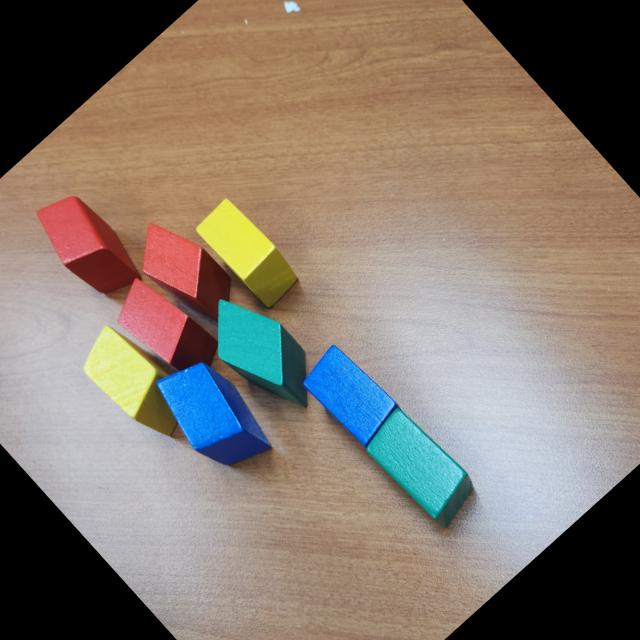blue: (142, 343, 282, 487), (295, 338, 404, 451)
green: (188, 277, 333, 427), (356, 399, 486, 533)
red: (26, 180, 152, 311), (120, 204, 246, 334), (102, 264, 227, 394)
yellow: (70, 316, 200, 450), (192, 194, 304, 311)
